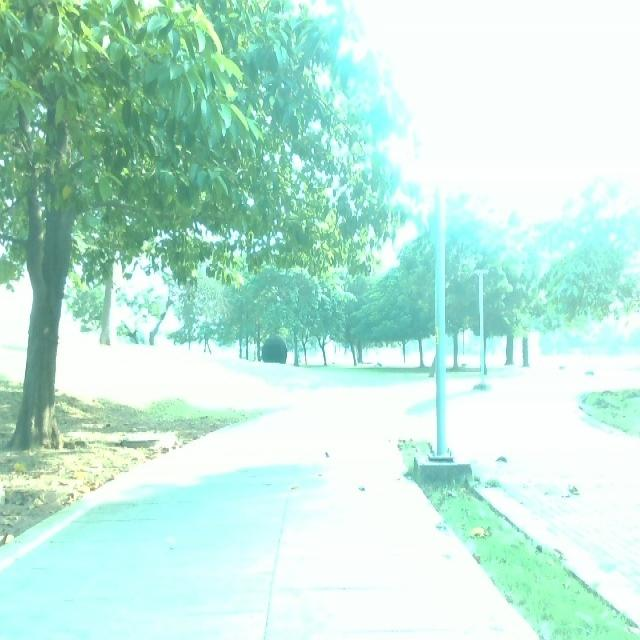lane: (6, 382, 524, 639)
